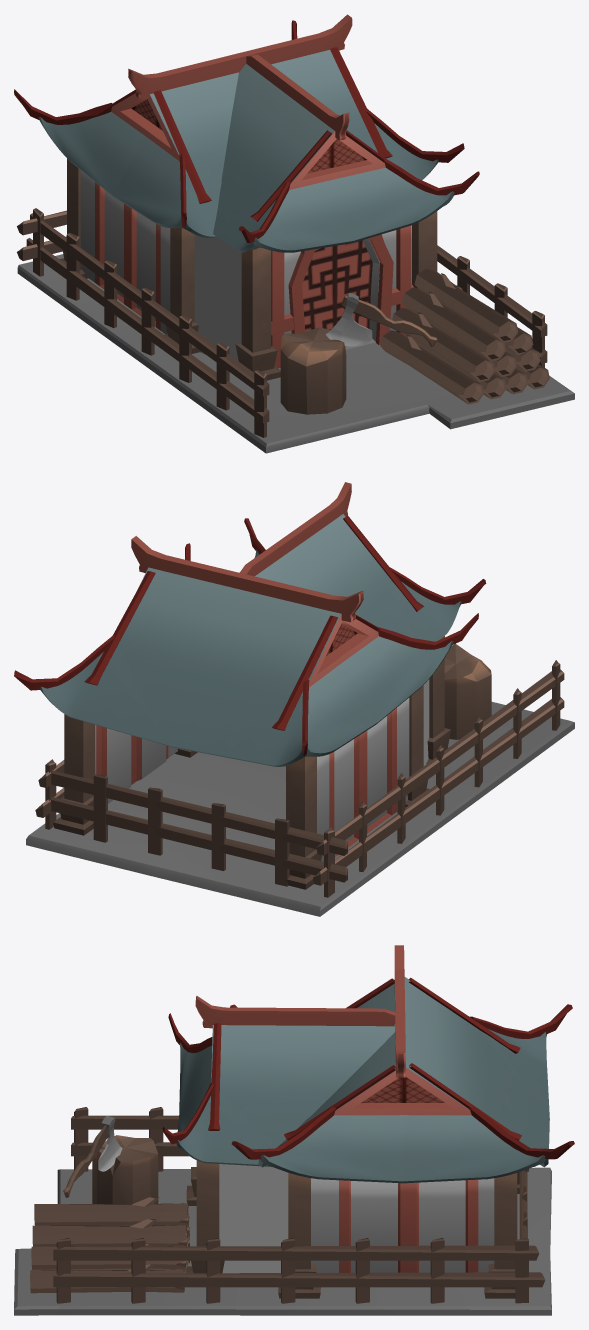
The model's file is sawmill_3lvl.fbx.
3 views of the same model, one above another, from view 1: azimuth 30°, elevation 25°; view 2: azimuth 150°, elevation 25°; view 3: azimuth 270°, elevation 25° (orthographic). The views are drawn at different scales.
Parts seen in each view (by area): view 1: sawmill_3lvl; view 2: sawmill_3lvl; view 3: sawmill_3lvl.
Part boxes in pixels (x1,y1,x2,y2): sawmill_3lvl: (14,14,574,453); sawmill_3lvl: (14,482,574,916); sawmill_3lvl: (14,945,574,1315).
Size of the model in its own units: 4.18 by 3.38 by 6.75.
